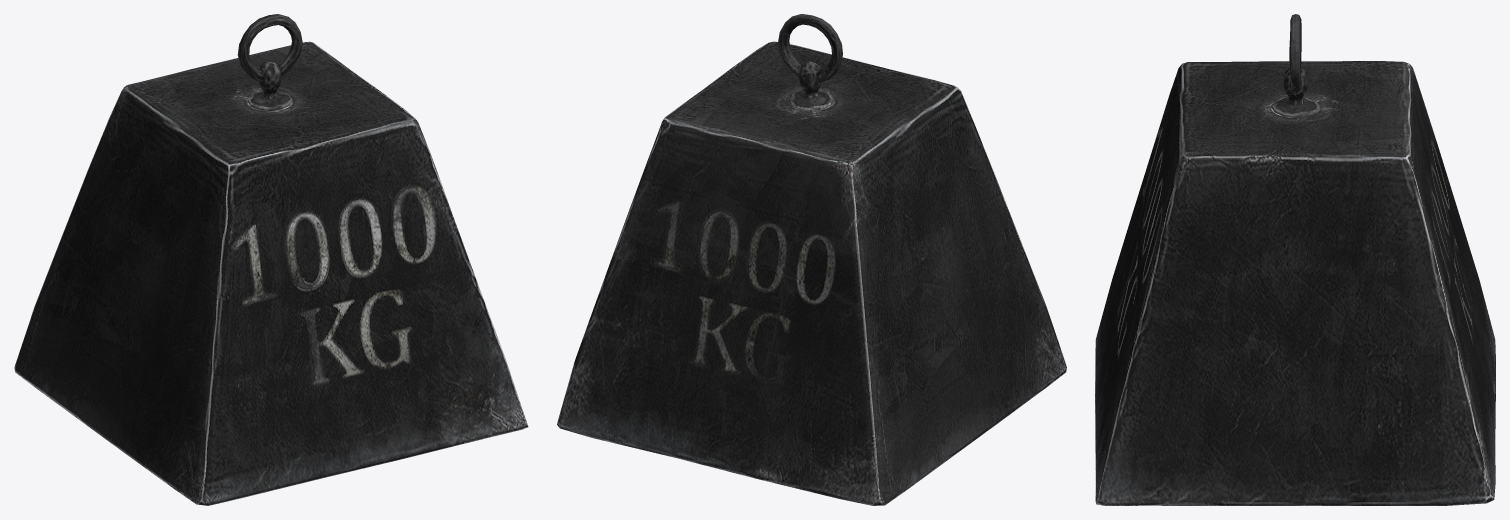
File: prop_weight1000kg.fbx
The picture shows the model from 3 angles, left to right: view 1: azimuth 30°, elevation 25°; view 2: azimuth 150°, elevation 25°; view 3: azimuth 270°, elevation 25°; orthographic projection. The views are drawn at different scales.
Visible parts, largest first — view 1: prop_weight1000kg_001; view 2: prop_weight1000kg_001; view 3: prop_weight1000kg_001.
Boxes of the visible parts, x1=… form: prop_weight1000kg_001: x1=14, y1=14, x2=528, y2=505; prop_weight1000kg_001: x1=557, y1=14, x2=1066, y2=505; prop_weight1000kg_001: x1=1095, y1=14, x2=1495, y2=505.
Bounding box in the file's own units: 258 × 287 × 258.
